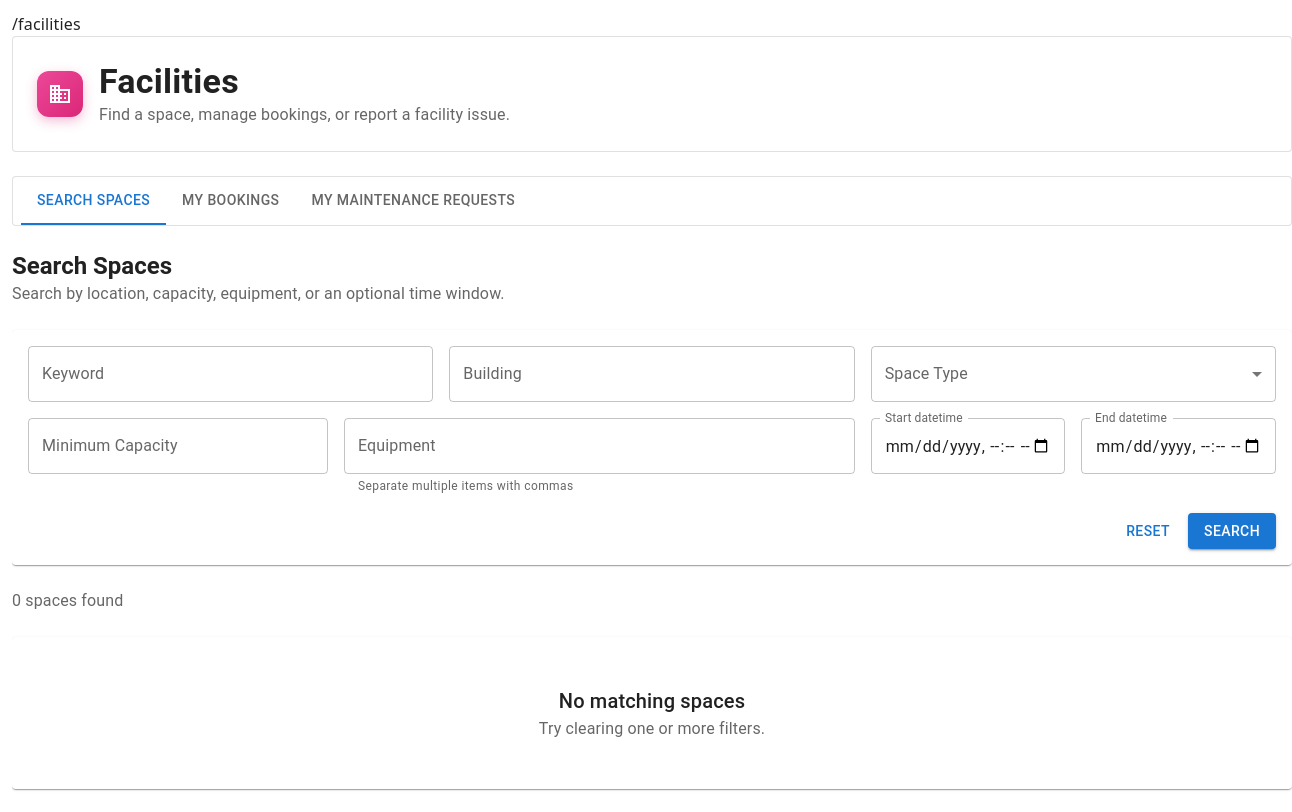
Facilities spaces pages › updates URL search state and clears it with Reset
Expected: the heading "No matching spaces" is shown, x1=559 y1=689 x2=745 y2=713
Type "study" into the field labelled "Keyword". click: (231, 374)
box: x1=28 y1=346 x2=433 y2=402
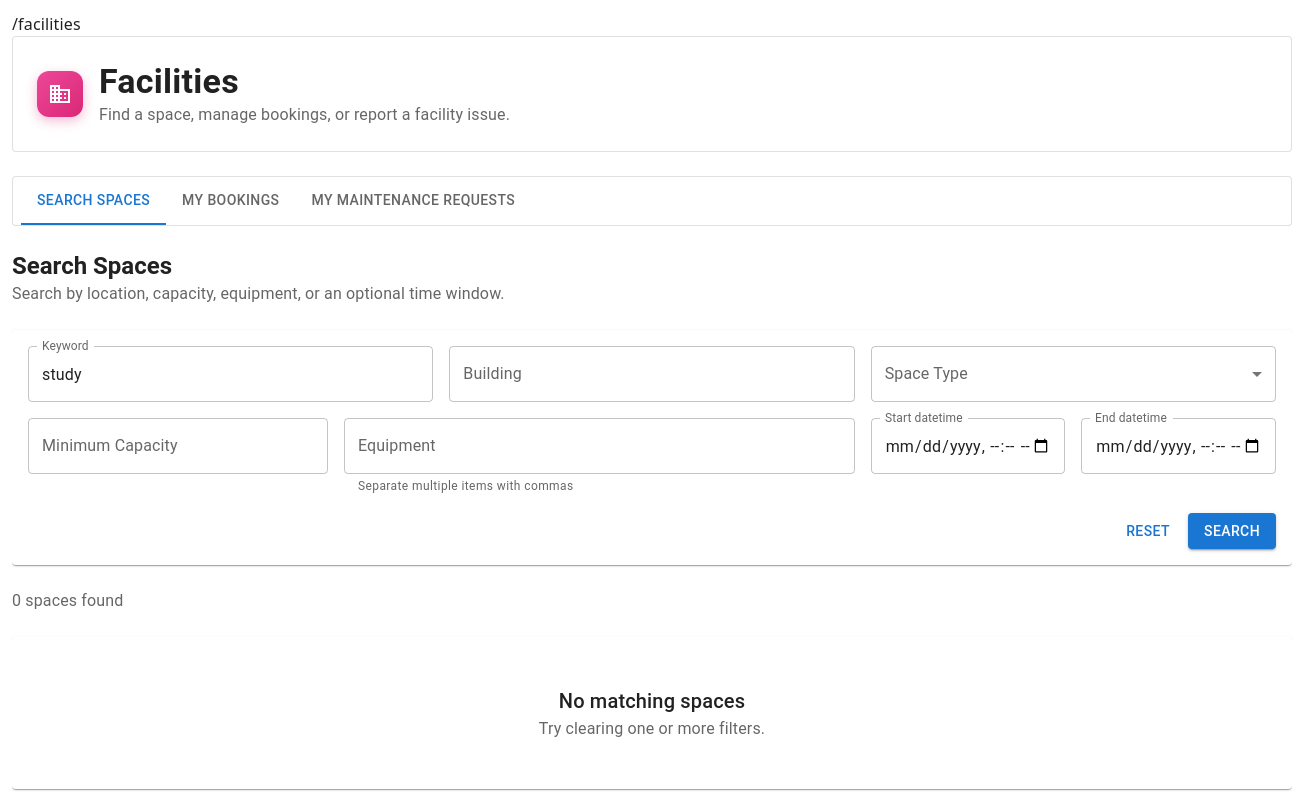
Type "COM3" into the field labelled "Building". click: (652, 374)
box: x1=449 y1=346 x2=855 y2=402
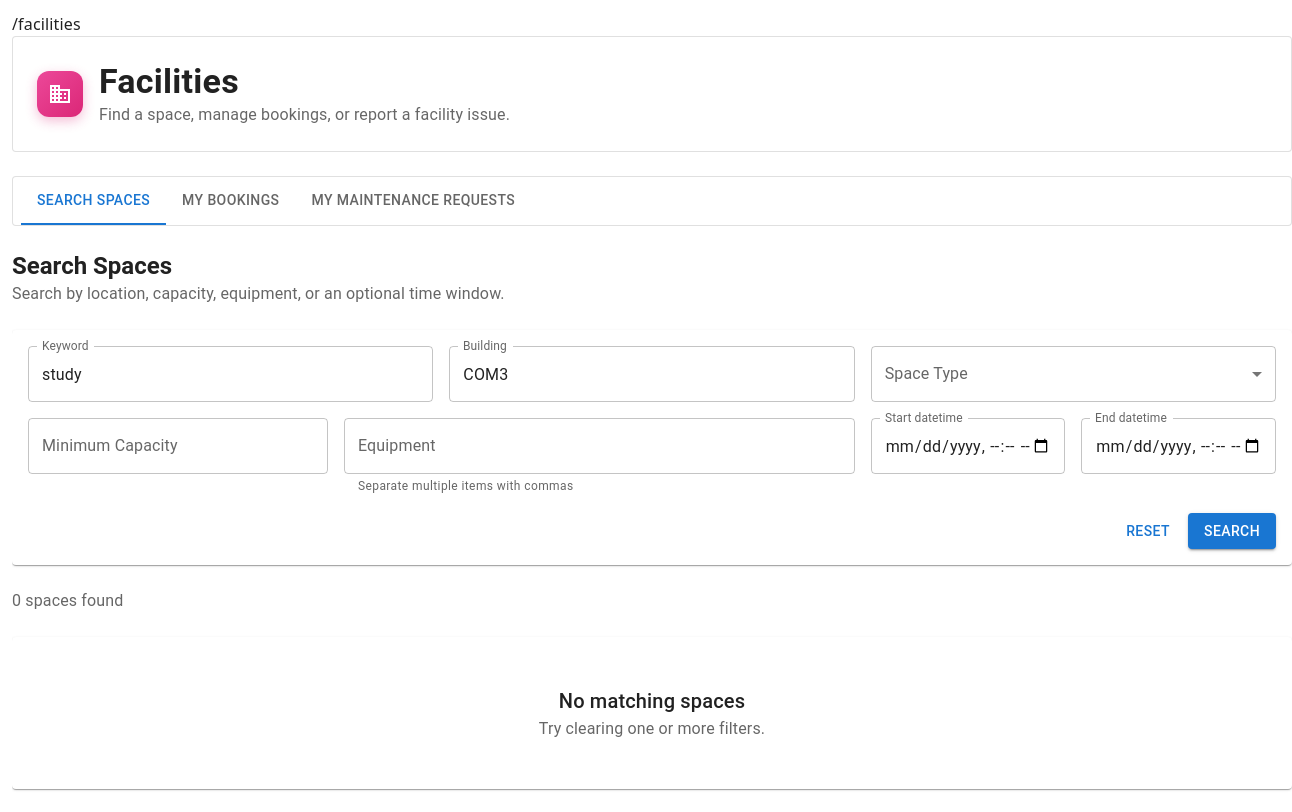
Type "Projector, Whiteboard" into the field labelled "Equipment". click: (599, 446)
box: x1=344 y1=418 x2=855 y2=474
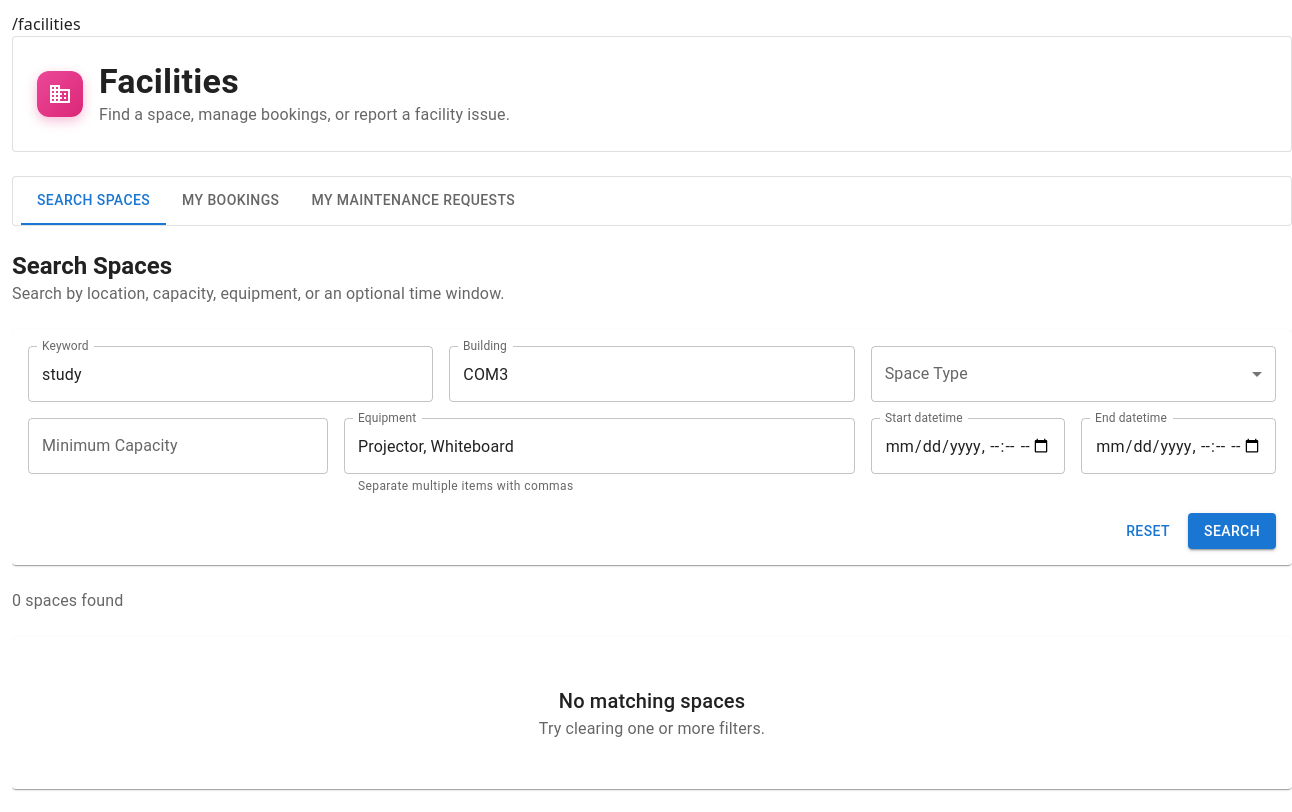
Click the button "Search". click: click(1232, 531)
box: x1=1188 y1=513 x2=1276 y2=549
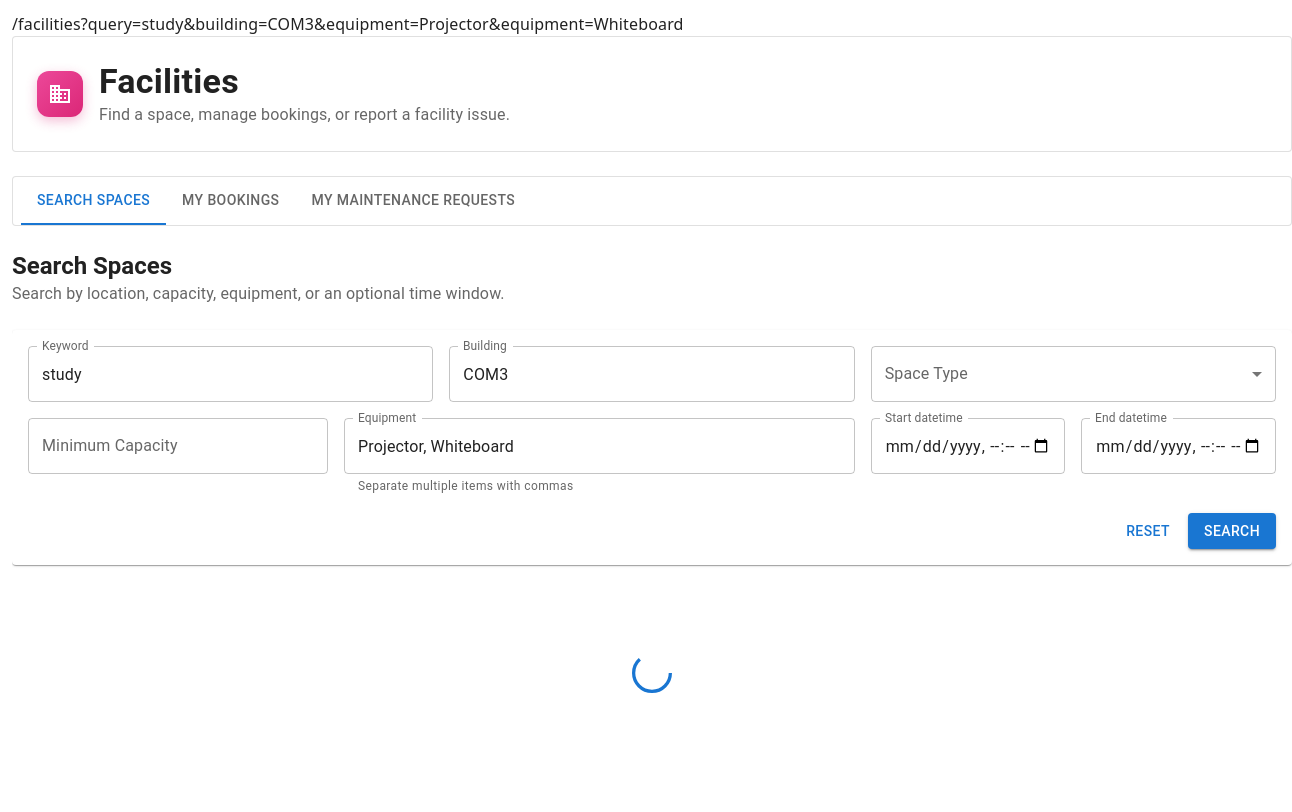
Result: the text named "Current location" reads "/facilities?query=study&building=COM3&equipment=Projector&equipment=Whiteboard" at x1=12 y1=13 x2=684 y2=35
Click the button "Reset". click: click(1148, 531)
box: x1=1116 y1=513 x2=1180 y2=549
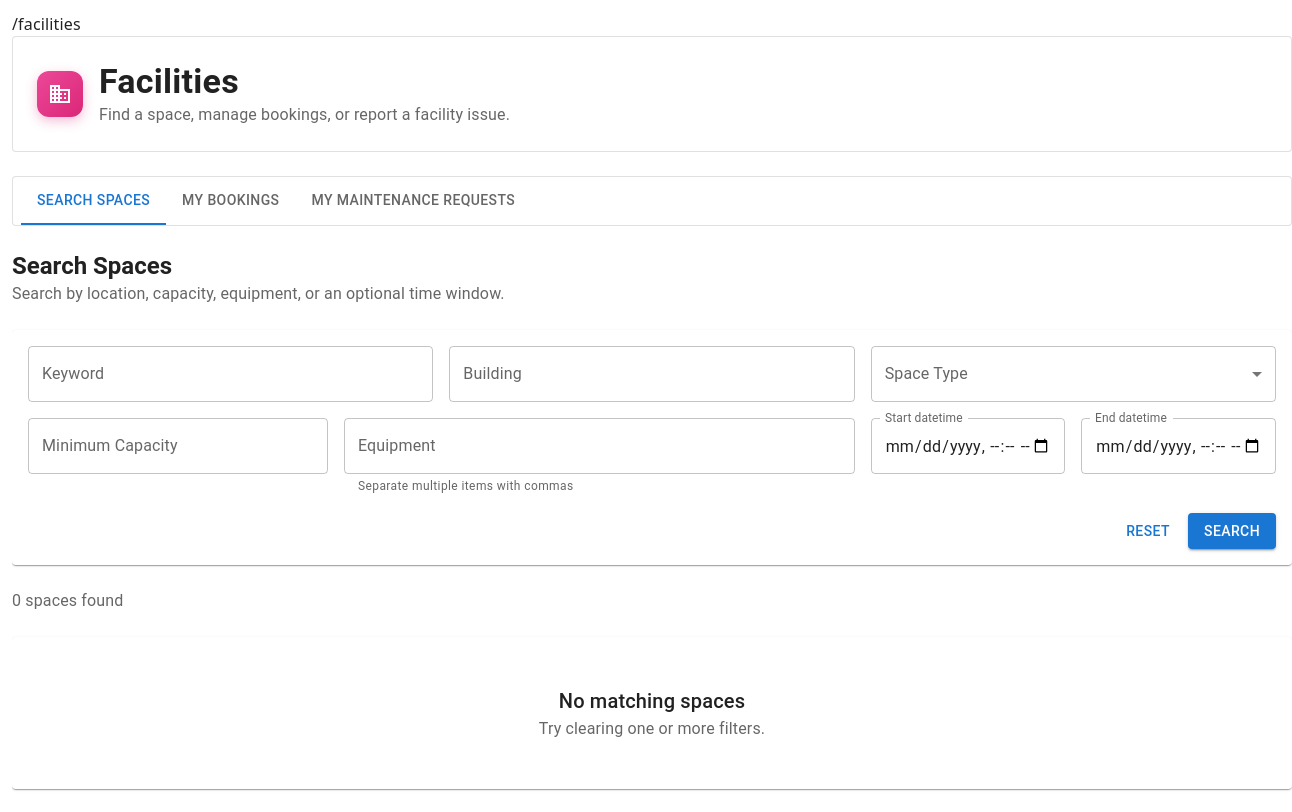
Expected: the text named "Current location" reads "/facilities", x1=12 y1=13 x2=81 y2=35
Result: the field labelled "Keyword" is empty at x1=28 y1=346 x2=433 y2=402
Result: the field labelled "Building" is empty at x1=449 y1=346 x2=855 y2=402
